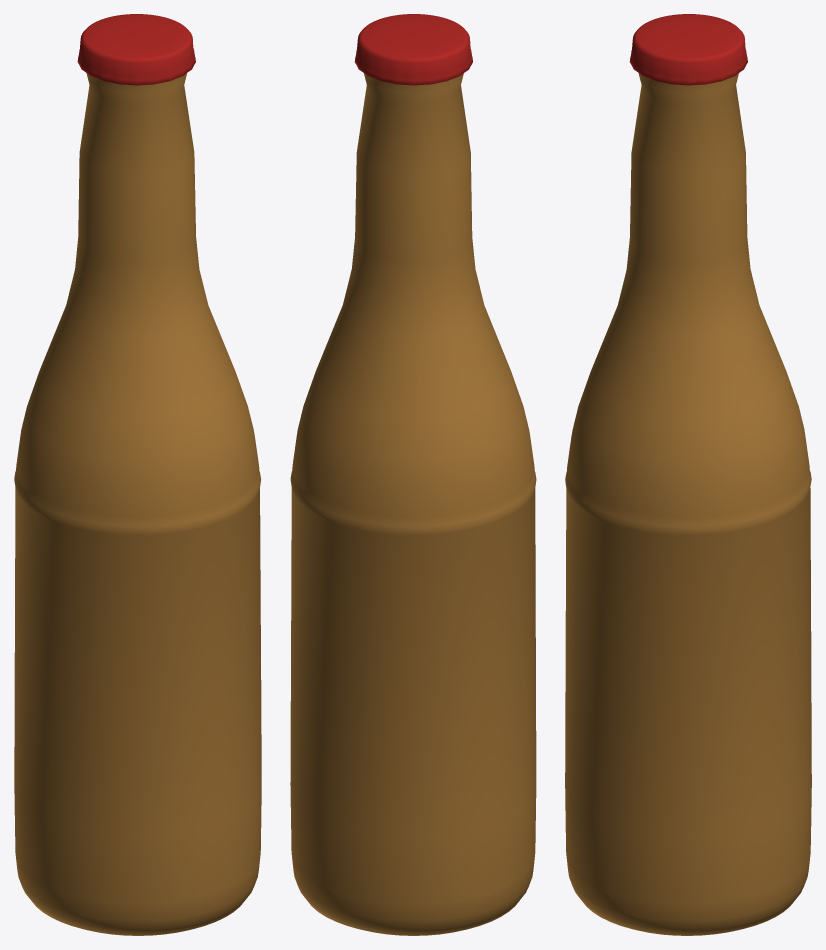
Rendered from bottle_longneck.glb.
The picture shows the model from 3 angles, left to right: view 1: azimuth 30°, elevation 25°; view 2: azimuth 150°, elevation 25°; view 3: azimuth 270°, elevation 25°; orthographic projection.
Visible parts, largest first — view 1: Glass, Cap; view 2: Glass, Cap; view 3: Glass, Cap.
Part boxes in pixels (x1,y1,x2,y2): Glass: [14, 73, 261, 935]; Cap: [77, 14, 195, 85]; Glass: [290, 73, 536, 935]; Cap: [354, 14, 472, 85]; Glass: [565, 73, 811, 935]; Cap: [629, 14, 747, 85].
Size of the model in its own units: 0.0627 by 0.2403 by 0.0627.
